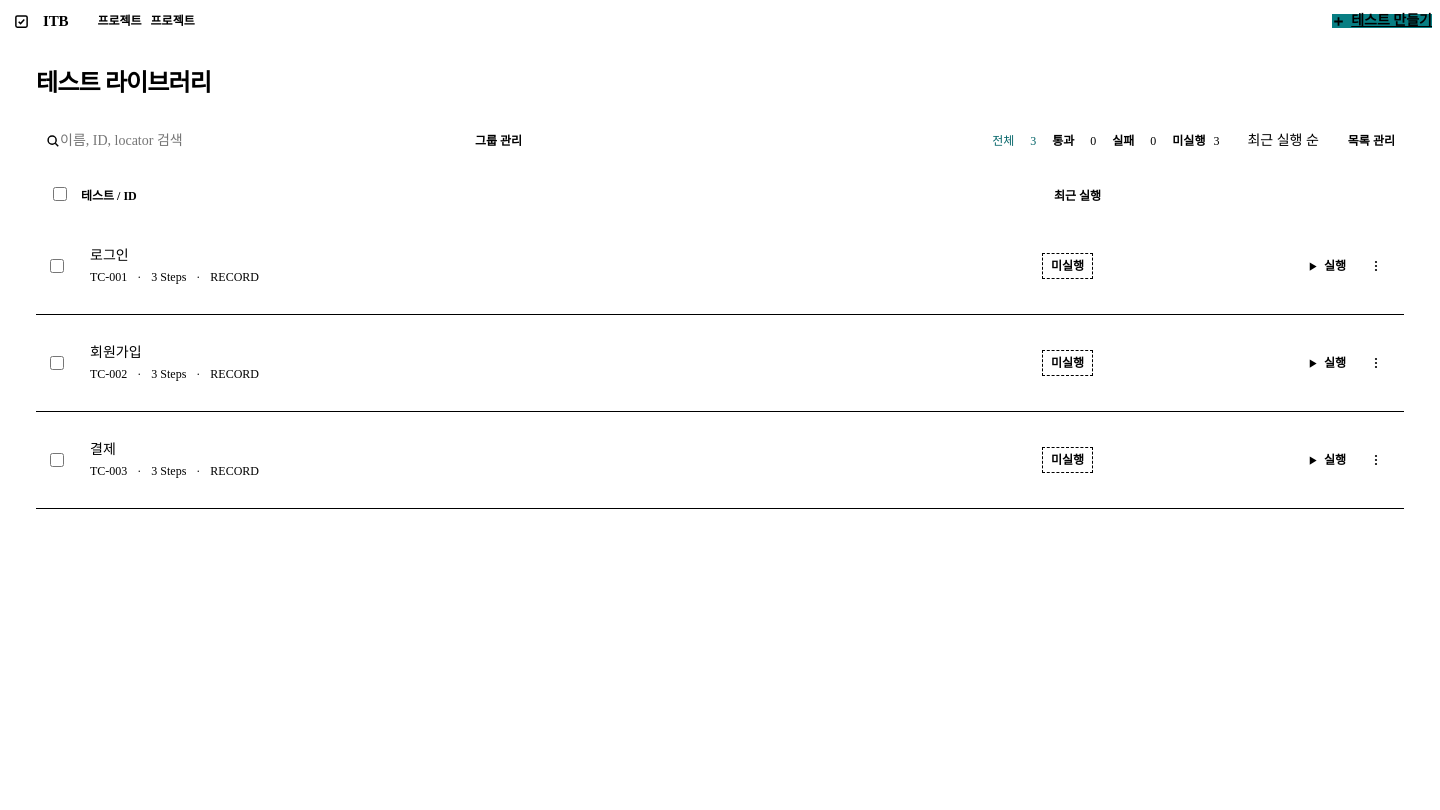
Test case: 선택 띠 › 고르면 나타나고 개수를 말한다 (FR-427)
Expected: the text "로그인" is shown, [90,248,129,263]
Click the checkbox named "로그인 선택" at (57, 266), box [50,259,64,273]
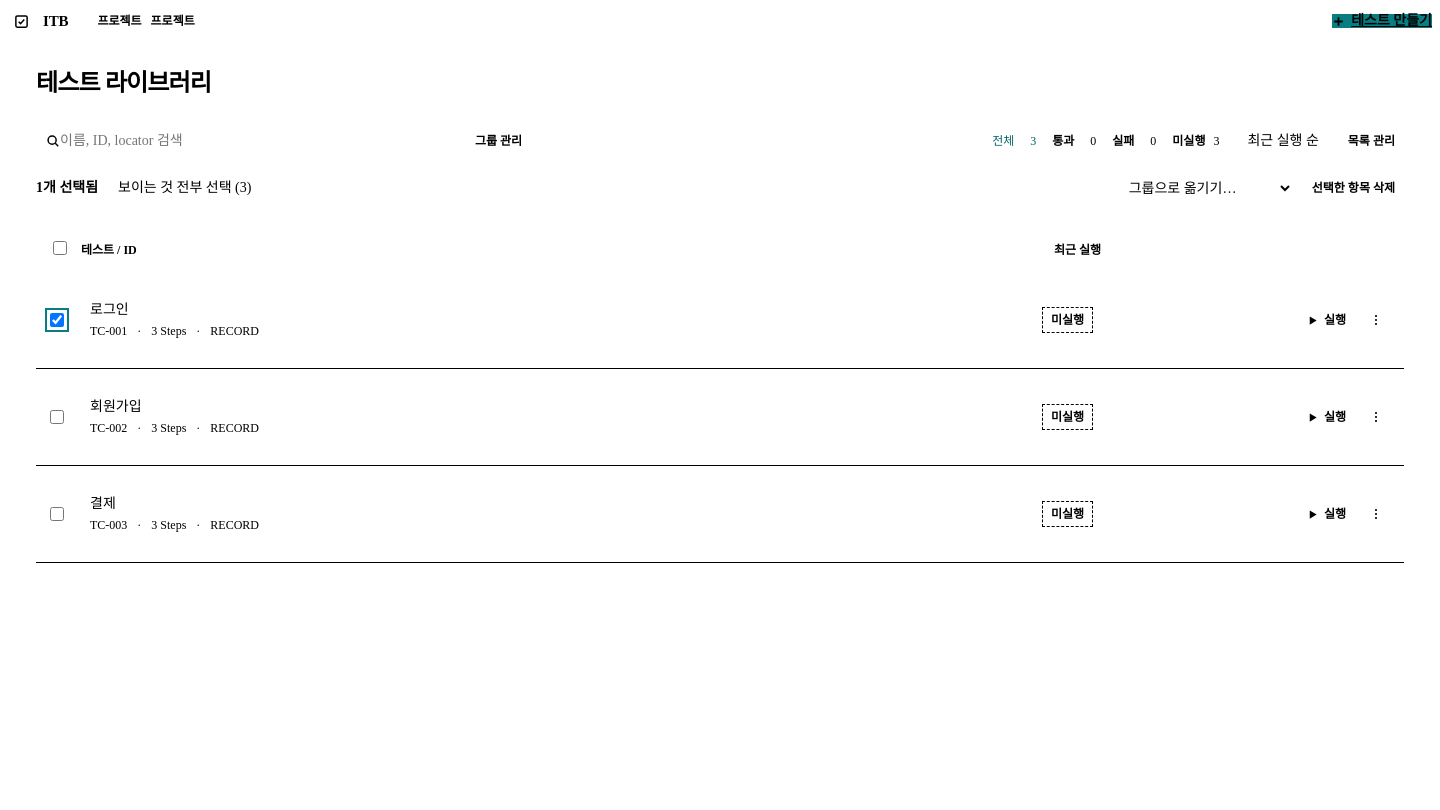
Expected: the element showing "1개 선택됨 보이는 것 전부 선택 (3) 선택한 항목 삭제" is shown, [36,174,1404,202]
Expected: the text "1개 선택됨" is shown, [36,181,98,195]
